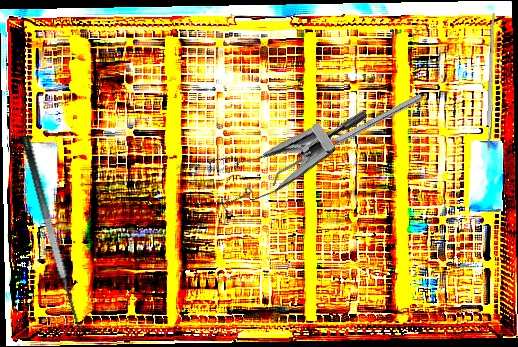Scalpel Handle: (485, 12, 496, 152)
Spatula Surgical: (18, 130, 96, 334), (267, 93, 426, 187)
Speculum: (192, 59, 370, 236)
